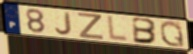8: (25, 8, 47, 34)
B: (132, 16, 159, 45)
J: (54, 11, 73, 36)
L: (107, 14, 130, 44)
Q: (159, 20, 187, 49)
Z: (77, 11, 105, 41)
